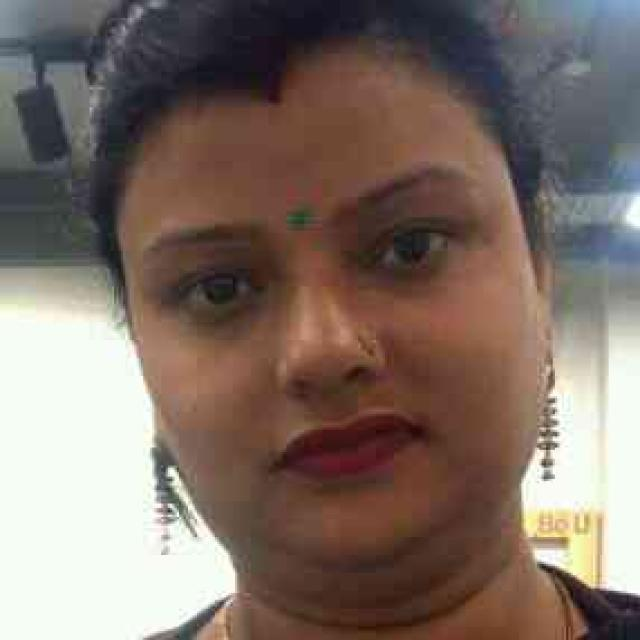puffy_eyes: (176, 297, 264, 342), (361, 255, 452, 292)
